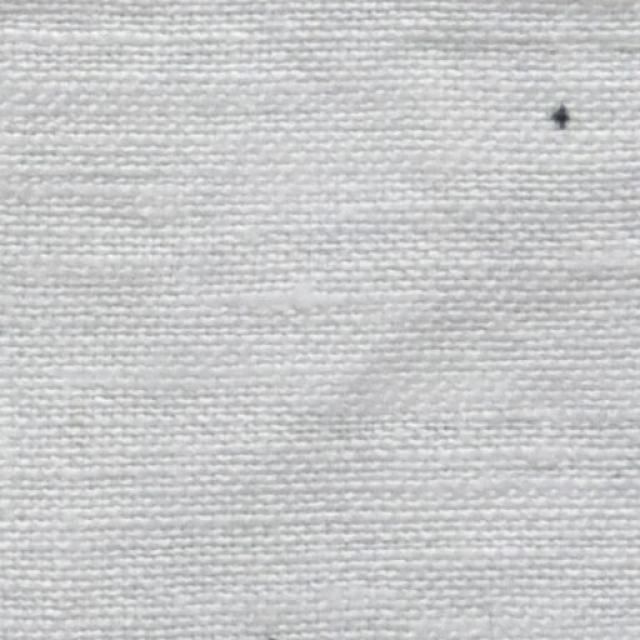Stain: (552, 102, 571, 128)
